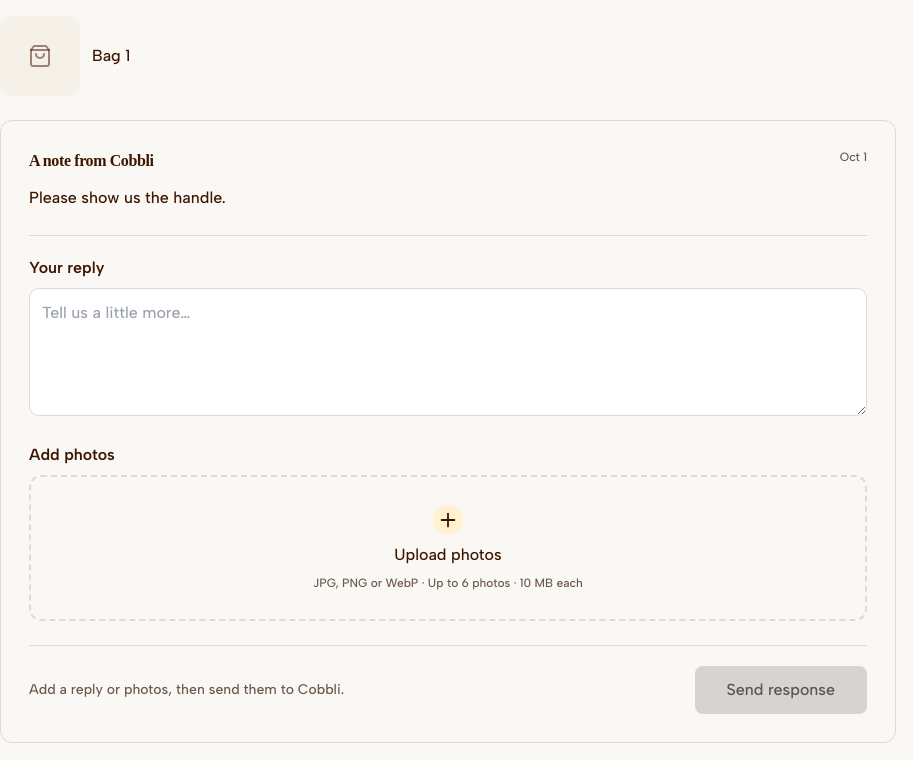
it: customer response › requires content and shows success only after a saved receipt; no history is displayed
Expected: the button "Send response" is disabled, [694,666,867,714]
In the text box labelled "Your reply": x=448, y=352 [29,288,867,416], type "Keep the original material, please."
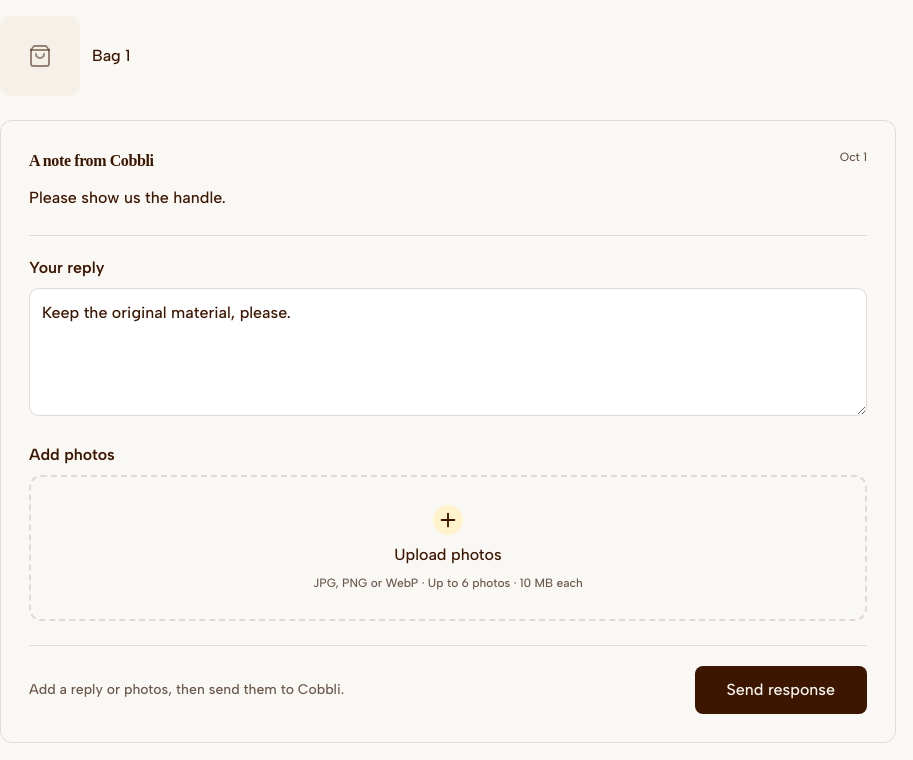
Click the button "Send response": x=781, y=690 [694,666,867,714]
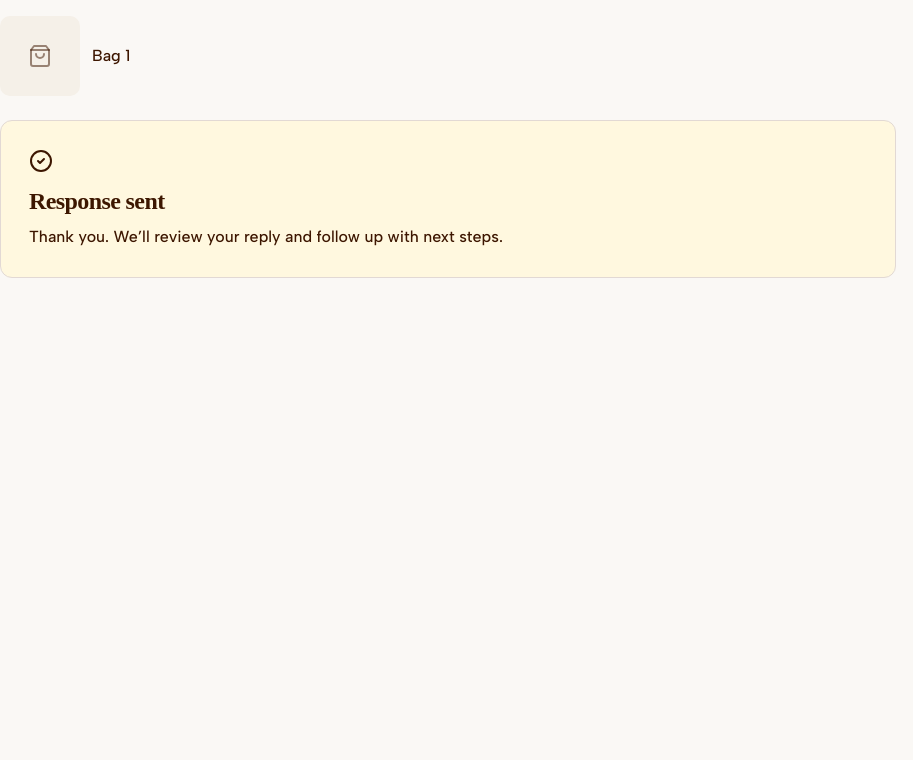
Result: the heading "Response sent" is shown at [29,188,164,214]
